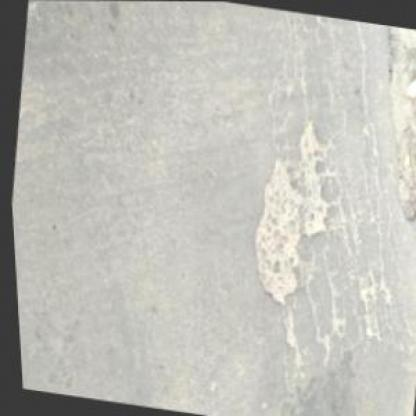pothole: (234, 108, 346, 311)
